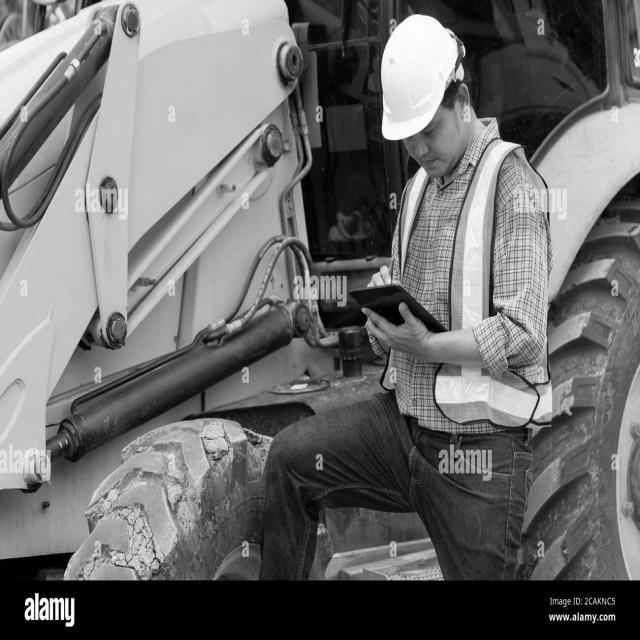construction helmet: (382, 13, 464, 143)
